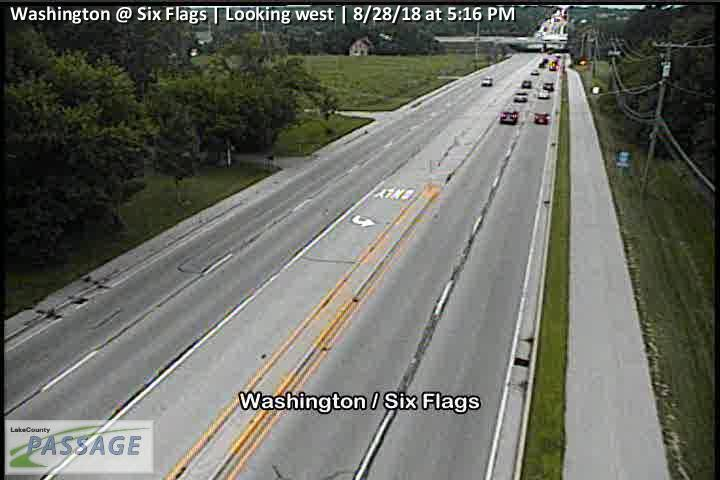SUV: (499, 109, 518, 125), (532, 111, 550, 125), (481, 75, 493, 86), (542, 80, 553, 90), (521, 79, 531, 87)
Sedan: (513, 92, 528, 102), (537, 88, 549, 98)
